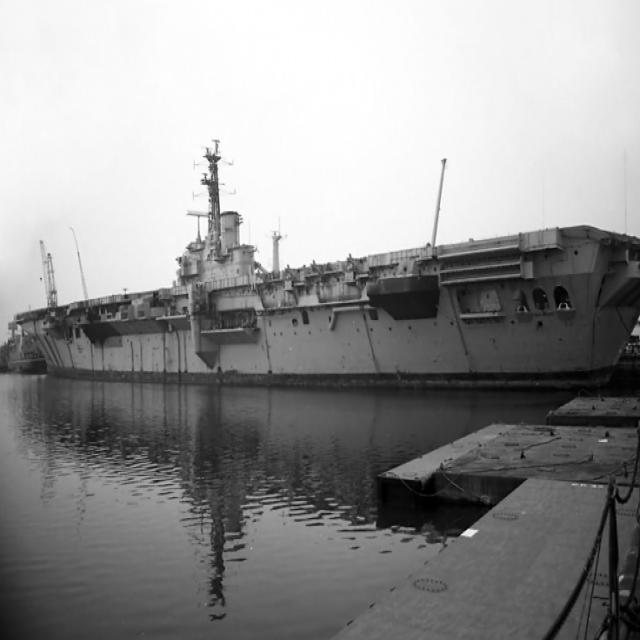Portanaves: (5, 122, 640, 388)
